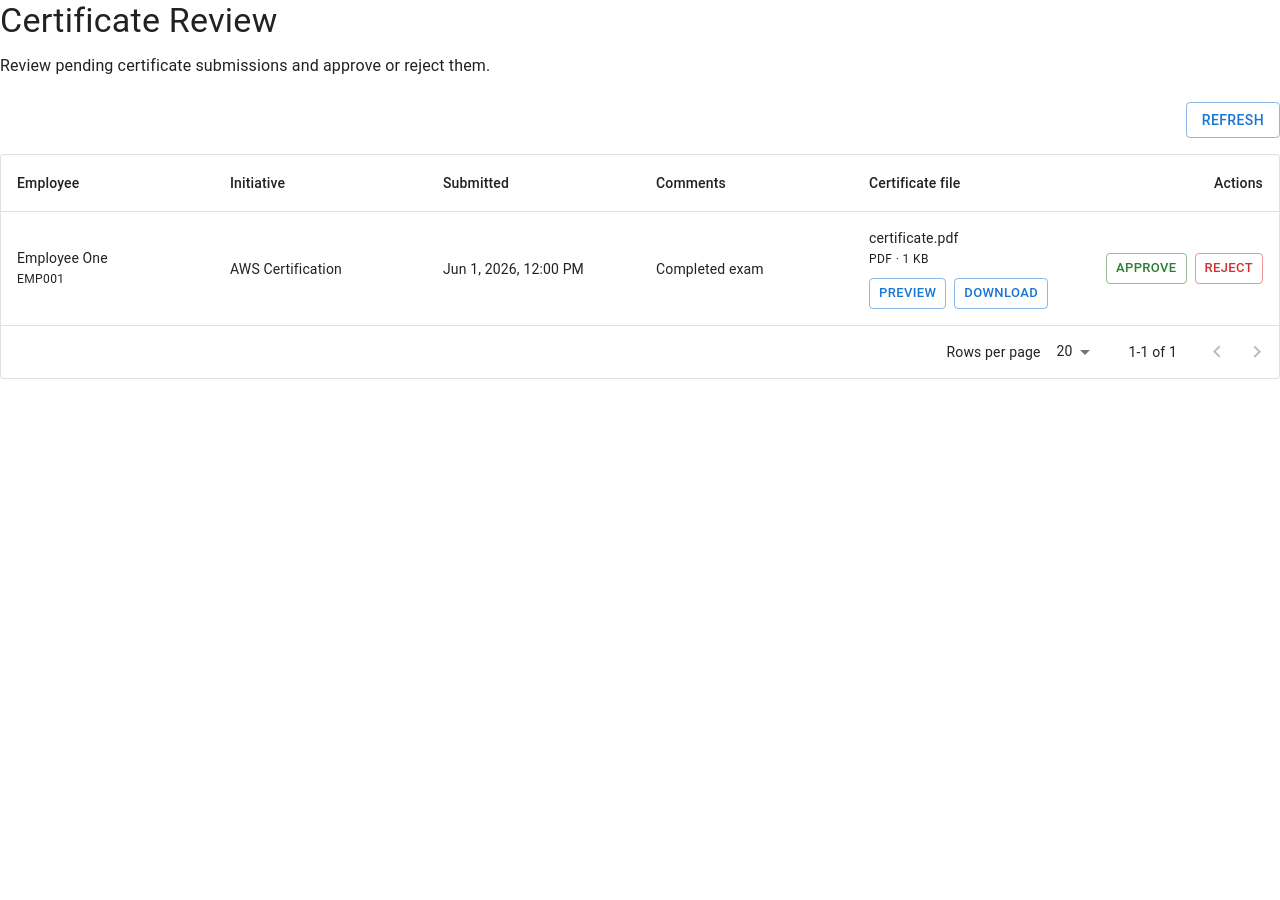
Test case: AdminReviewPage › approves a submission and shows success snackbar
Expected: the text "Employee One" is shown, [17, 250, 108, 266]
Click the button "Approve". click: (1146, 269)
box: [1106, 253, 1186, 284]
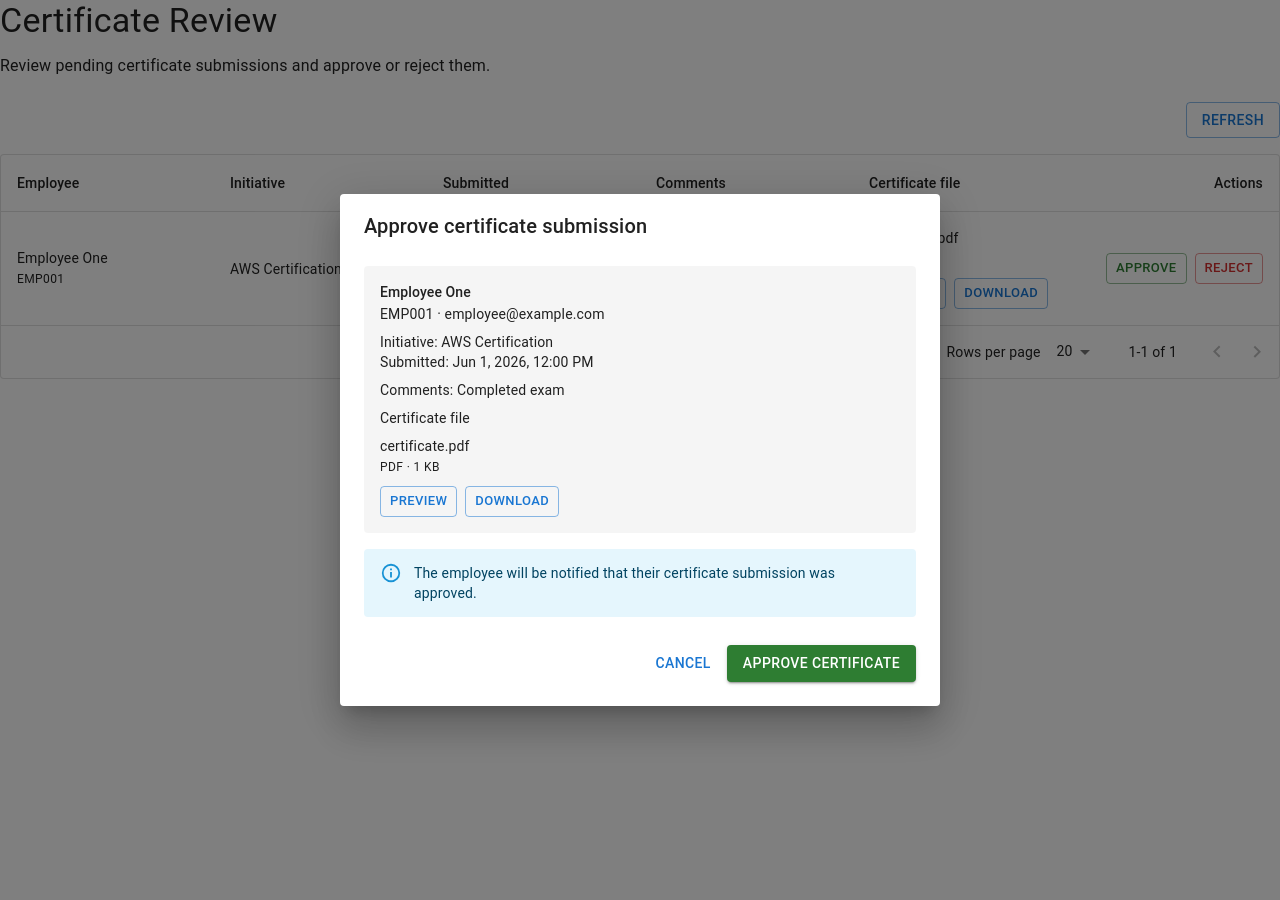
Click the button "Approve certificate". click: (821, 663)
box: [727, 645, 916, 682]
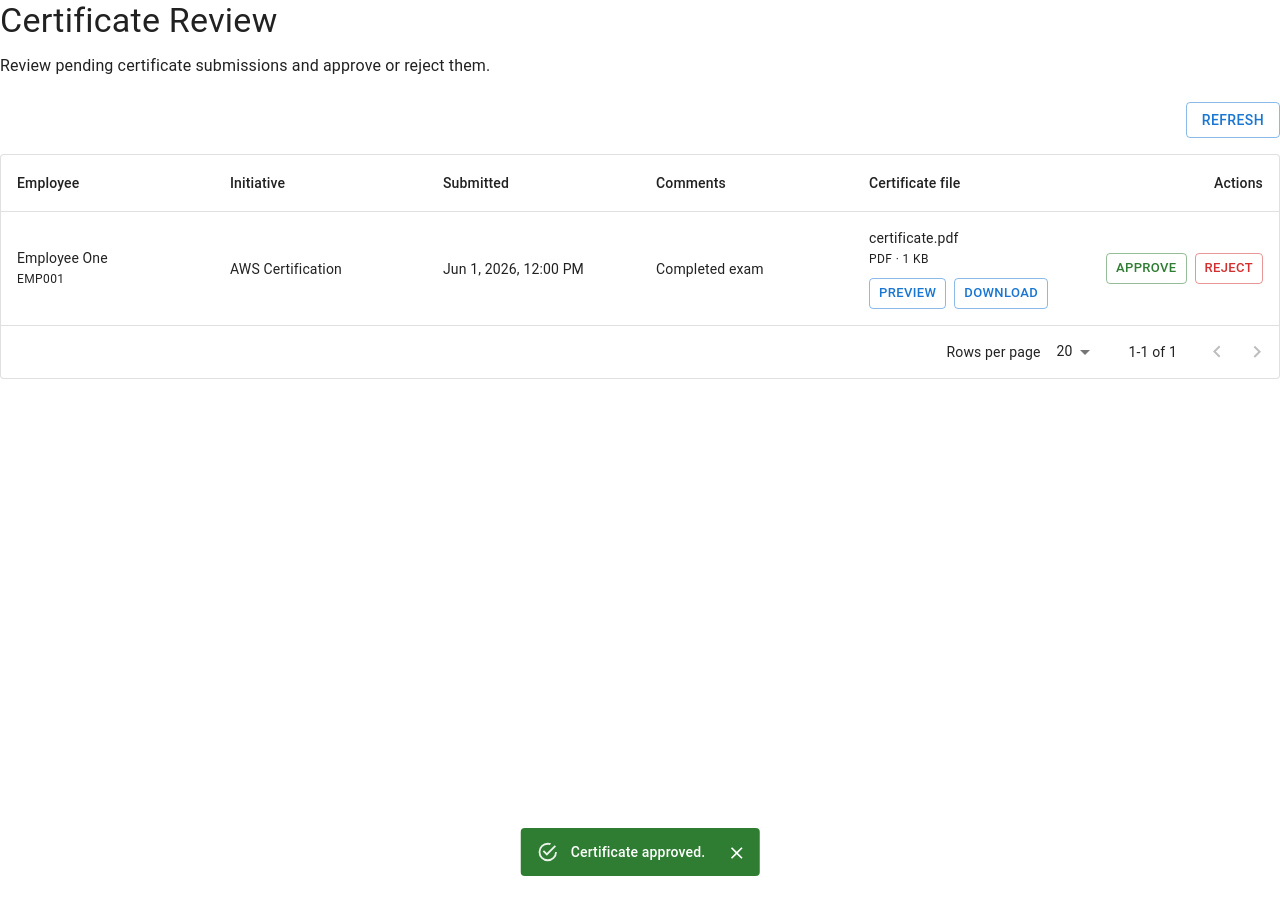
Expected: the text "Certificate approved." is shown, [571, 844, 705, 860]
